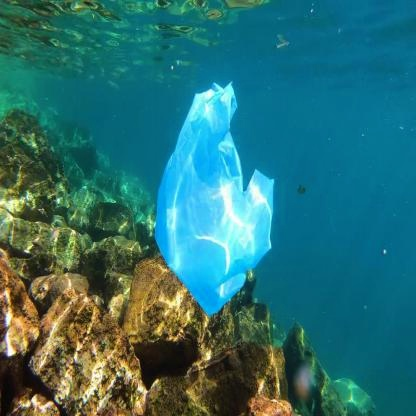pbag: (152, 75, 275, 320)
